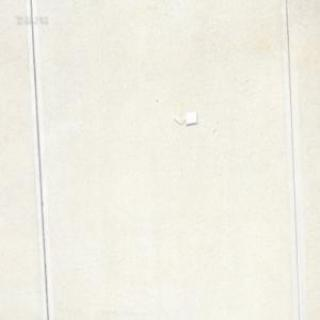LuggageTagtrack_idkeyframe: (172, 109, 196, 127)
